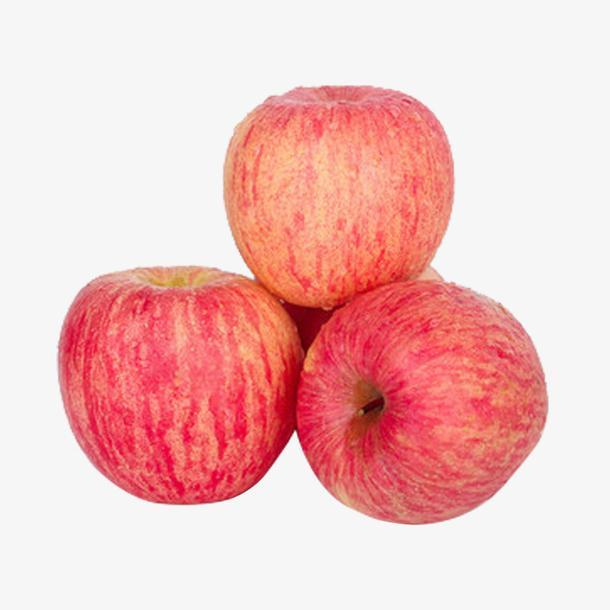apple: (296, 284, 547, 527), (57, 268, 308, 508), (223, 90, 454, 313)
